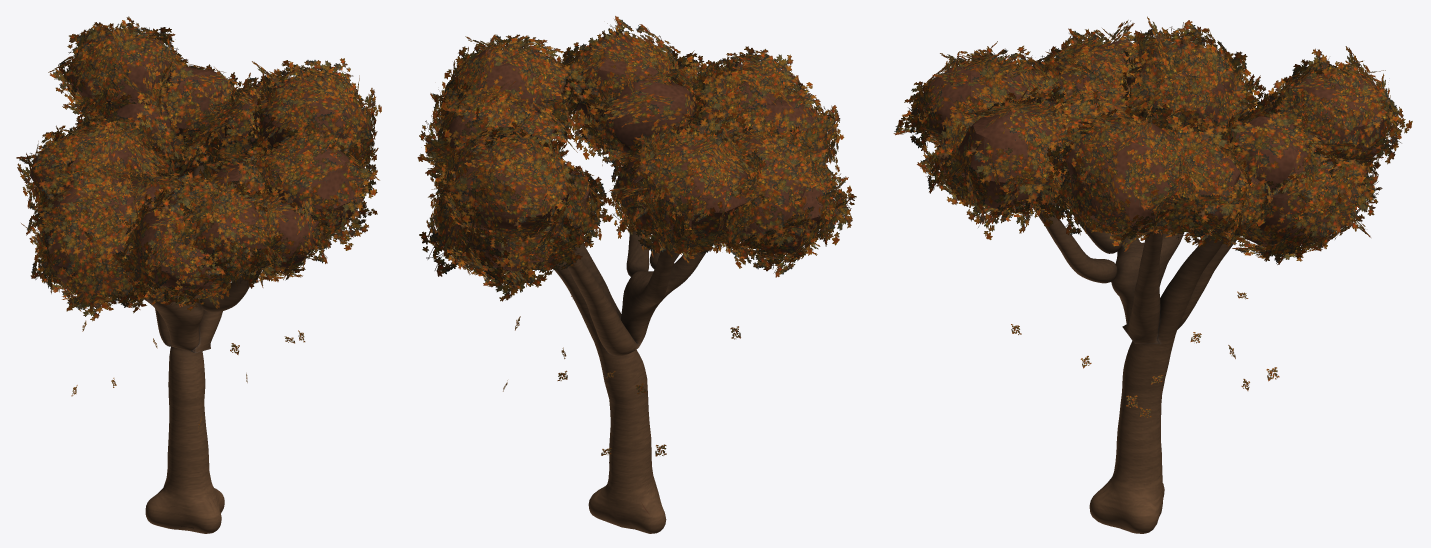
Rendered from WFTreeMaple.fbx.
3 renders of one model, left to right at view 1: azimuth 30°, elevation 25°; view 2: azimuth 150°, elevation 25°; view 3: azimuth 270°, elevation 25°, orthographic. The views are drawn at different scales.
Visible parts, largest first — view 1: WFTreeMaple_Leaves, WFTreeMaple_Core, WFTreeMaple_Main; view 2: WFTreeMaple_Leaves, WFTreeMaple_Core, WFTreeMaple_Main; view 3: WFTreeMaple_Leaves, WFTreeMaple_Main, WFTreeMaple_Core.
Boxes of the visible parts, <box> form: WFTreeMaple_Leaves: <box>16,16,381,429</box>; WFTreeMaple_Core: <box>30,35,370,296</box>; WFTreeMaple_Main: <box>143,115,253,533</box>; WFTreeMaple_Leaves: <box>417,16,856,456</box>; WFTreeMaple_Core: <box>438,34,830,271</box>; WFTreeMaple_Main: <box>538,98,735,533</box>; WFTreeMaple_Leaves: <box>893,16,1412,417</box>; WFTreeMaple_Main: <box>1033,200,1236,533</box>; WFTreeMaple_Core: <box>925,40,1385,246</box>.
Size of the model in its own units: 1297 by 1466 by 1455.
